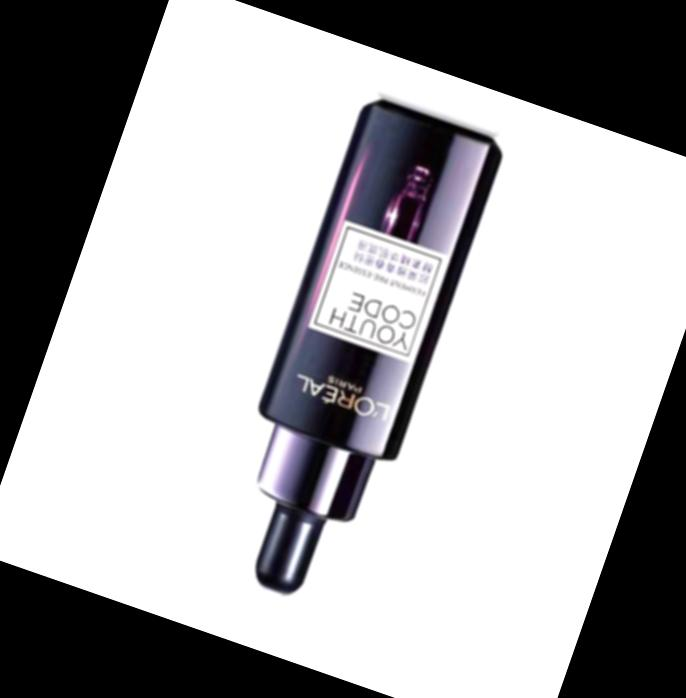cosmetic: (205, 95, 504, 614)
